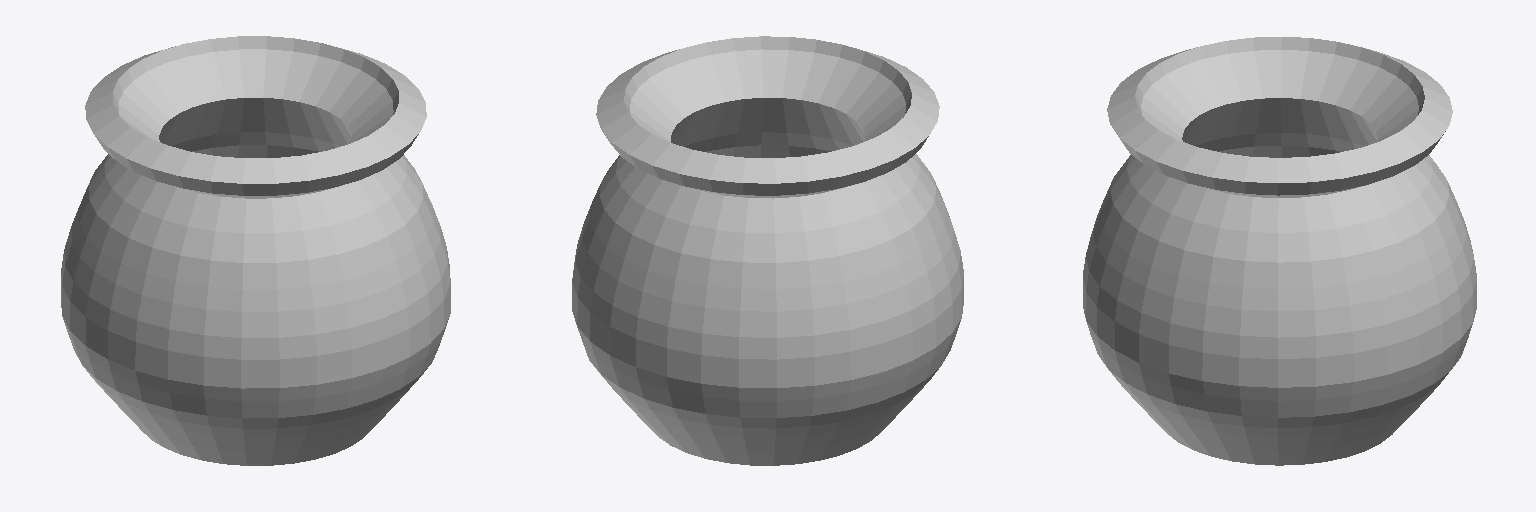
Rendered from pot.obj.
3 views of the same model, side by side, from view 1: azimuth 30°, elevation 25°; view 2: azimuth 150°, elevation 25°; view 3: azimuth 270°, elevation 25° (orthographic).
Visible parts, largest first — view 1: Circle; view 2: Circle; view 3: Circle.
Boxes of the visible parts, <box> form: Circle: <box>61,36,450,465</box>; Circle: <box>572,36,963,465</box>; Circle: <box>1083,37,1476,465</box>.
Size of the model in its own units: 6.22 by 5.58 by 6.29.